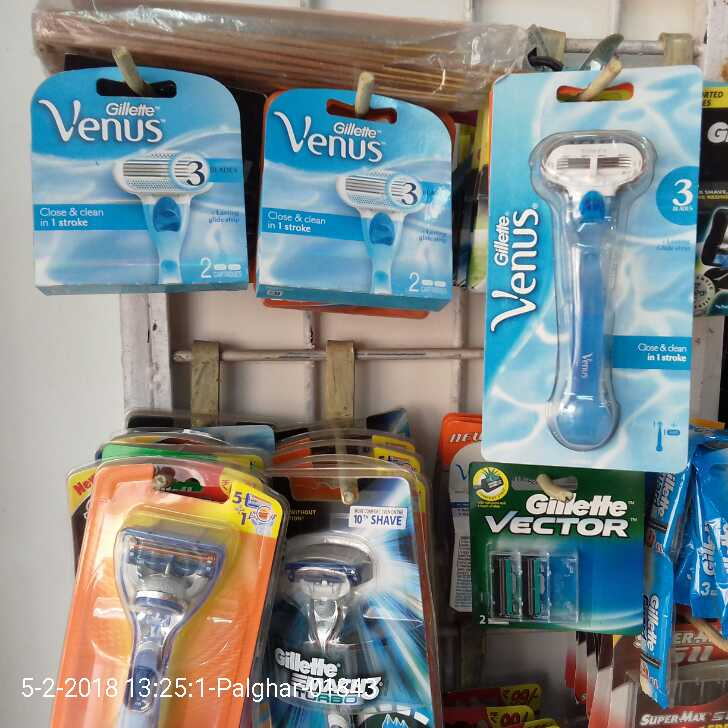beauty: (483, 79, 696, 470), (26, 52, 248, 291), (257, 86, 451, 306), (461, 457, 643, 635)
